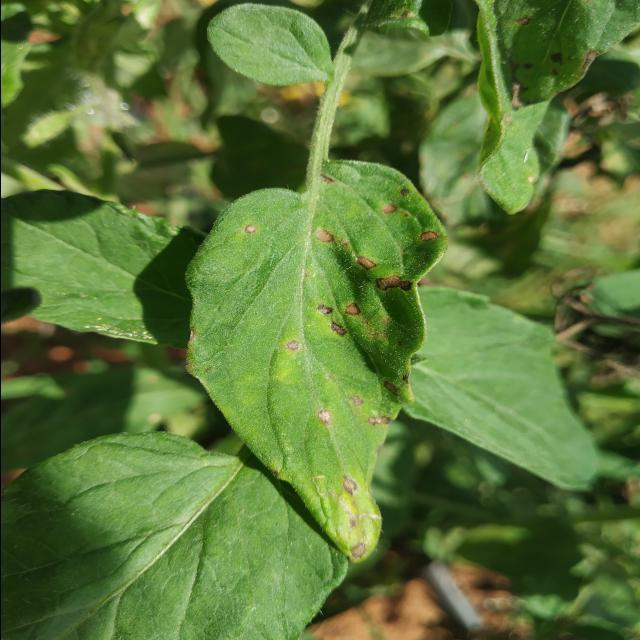Tomato mosaic virus leaf: (182, 159, 448, 563), (480, 0, 560, 53)
